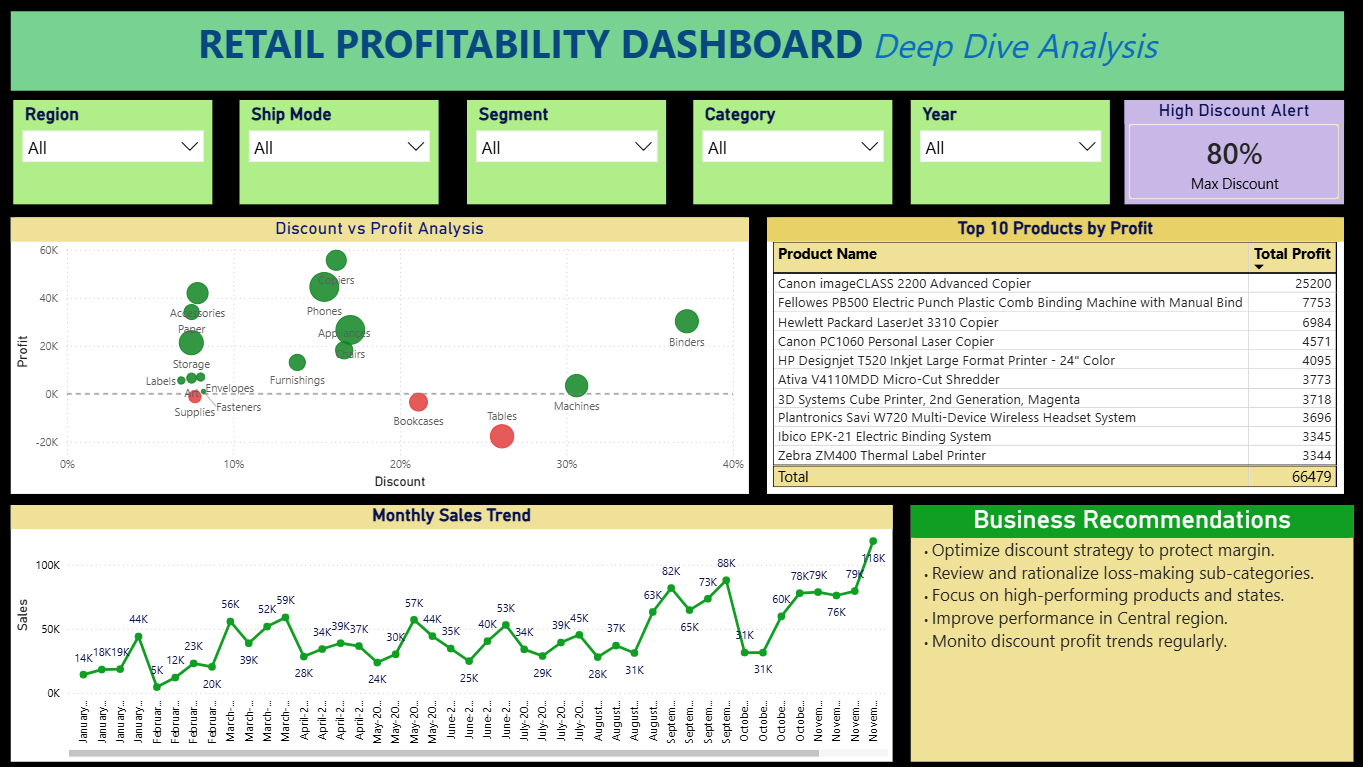

The dashboard page shown, as its layout file describes it:
{"tool":"powerbi","page":{"name":"Page 2","canvas":[1500,850],"ordinal":1},"visuals":[{"type":"slicer","fields":{"Values":["retail_data.Region"]},"box":[12.5,115.6,218.8,114.1],"z":0},{"type":"slicer","fields":{"Values":["retail_data.Ship Mode"]},"box":[260.9,115.6,218.8,114.1],"z":1},{"type":"slicer","fields":{"Values":["retail_data.Segment"]},"box":[509.4,115.6,218.8,114.1],"z":2},{"type":"slicer","fields":{"Values":["retail_data.Category"]},"box":[757.8,115.6,218.8,114.1],"z":3},{"type":"scatterChart","title":"Discount vs Profit Analysis","fields":{"X":["retail_data.Avg Discount"],"Y":["retail_data.Total Profit"],"Size":["retail_data.Total Sales"],"Series":["retail_data.Sub-Category"]},"box":[9.4,243.8,809.4,303.1],"z":5},{"type":"lineChart","title":"Monthly Sales Trend","fields":{"Y":["Sum(retail_data.Sales)"],"Category":["retail_data.Month Year"]},"box":[9.4,559.4,967.2,281.2],"z":8},{"type":"slicer","fields":{"Values":["retail_data.Year"]},"box":[996.9,115.6,218.8,114.1],"z":9},{"type":"textbox","box":[9.4,17.2,1462.5,87.5],"z":11},{"type":"cardVisual","title":"High Discount Alert","fields":{"Data":["retail_data.Max Discount"]},"box":[1231.2,115.6,240.6,114.1],"z":12},{"type":"tableEx","title":"Top 10 Products by Profit","fields":{"Values":["retail_data.Product Name","retail_data.Total Profit"]},"box":[839.1,243.8,632.8,303.1],"z":13},{"type":"textbox","title":"Business Recommendations","box":[996.9,559.4,485.9,281.2],"z":14}]}

Visuals, with their boxes in screenshot pixels (x1, y1, x2, y2), scaled from the page's 1500x850 canvas onto the 1363x767 screenshot:
slicer - retail_data.Region: BBox(11, 104, 210, 207)
slicer - retail_data.Ship Mode: BBox(237, 104, 436, 207)
slicer - retail_data.Segment: BBox(463, 104, 662, 207)
slicer - retail_data.Category: BBox(689, 104, 887, 207)
"Discount vs Profit Analysis" scatterChart: BBox(9, 220, 744, 493)
"Monthly Sales Trend" lineChart: BBox(9, 505, 887, 759)
slicer - retail_data.Year: BBox(906, 104, 1105, 207)
textbox: BBox(9, 16, 1337, 94)
"High Discount Alert" cardVisual: BBox(1119, 104, 1337, 207)
"Top 10 Products by Profit" tableEx: BBox(762, 220, 1337, 493)
"Business Recommendations" textbox: BBox(906, 505, 1347, 759)
